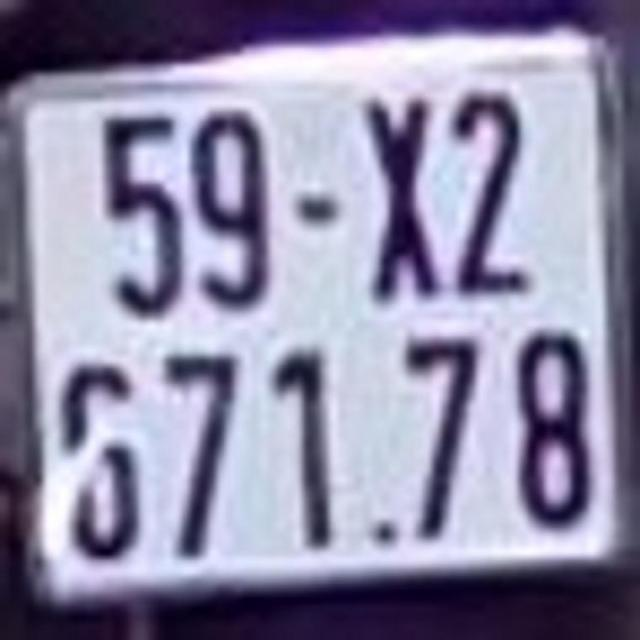1: (277, 354, 335, 538)
2: (453, 88, 531, 292)
5: (111, 120, 187, 316)
6: (59, 363, 150, 552)
7: (161, 352, 242, 560), (405, 337, 478, 537)
8: (518, 321, 592, 530)
9: (188, 110, 272, 316)
X: (372, 92, 441, 300)
